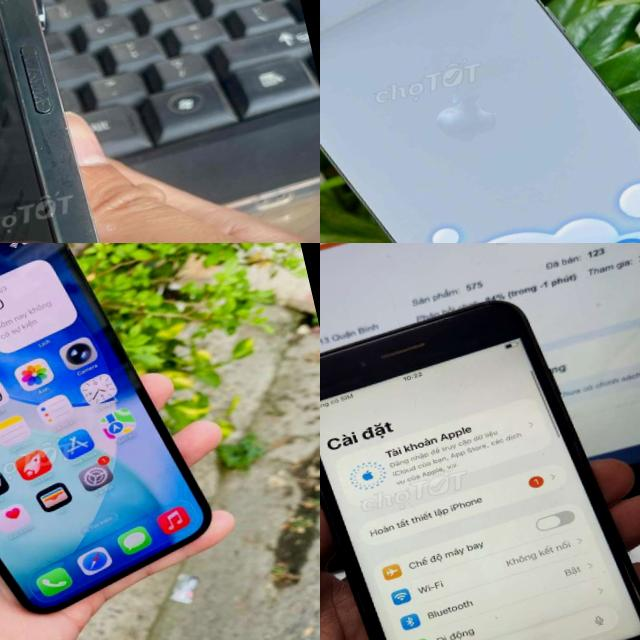gen_12_13: (0, 243, 227, 640), (0, 0, 189, 243)
gen_17: (320, 0, 640, 243)
gen_7_8: (320, 276, 640, 640)
scratch: (0, 0, 132, 243), (320, 305, 485, 359)
